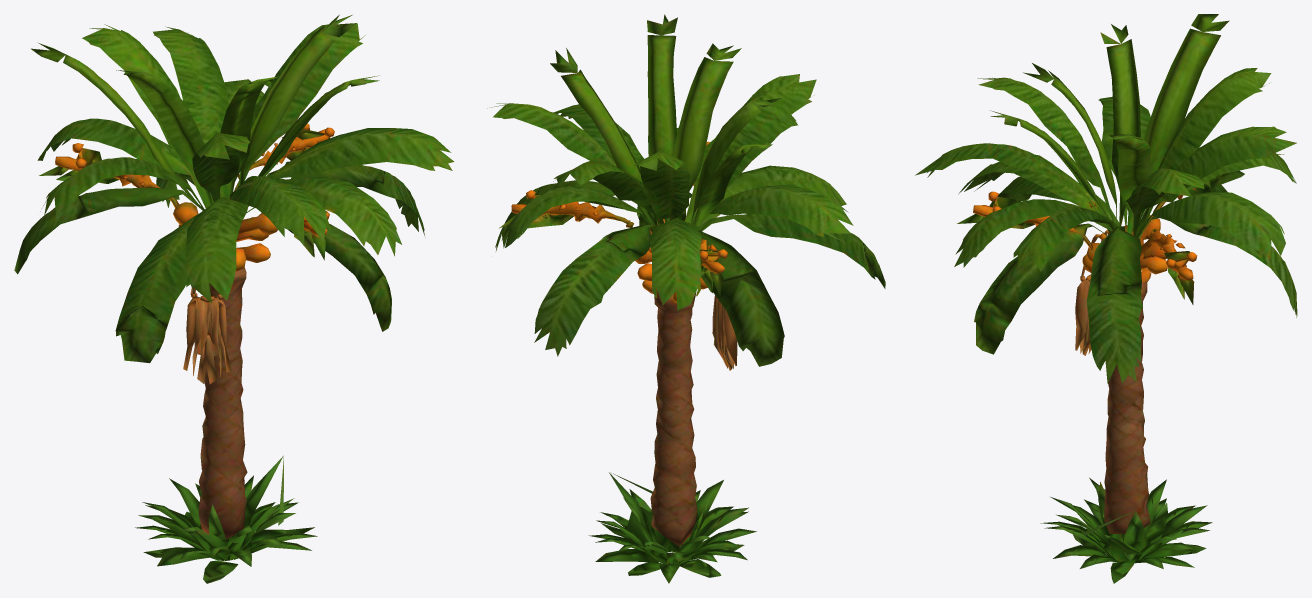
Rendered from palm_tree.glb.
The picture shows the model from 3 angles, left to right: view 1: azimuth 30°, elevation 25°; view 2: azimuth 150°, elevation 25°; view 3: azimuth 270°, elevation 25°; orthographic projection. The views are drawn at different scales.
Parts seen in each view (by area): view 1: tripo_node_c3f64156-23c7-4f6f-9696-3b2da13b3cb2; view 2: tripo_node_c3f64156-23c7-4f6f-9696-3b2da13b3cb2; view 3: tripo_node_c3f64156-23c7-4f6f-9696-3b2da13b3cb2.
Part boxes in pixels (x1,y1,x2,y2): tripo_node_c3f64156-23c7-4f6f-9696-3b2da13b3cb2: (14,14,454,583); tripo_node_c3f64156-23c7-4f6f-9696-3b2da13b3cb2: (487,14,885,583); tripo_node_c3f64156-23c7-4f6f-9696-3b2da13b3cb2: (915,14,1297,583).
Bounding box in the file's own units: 0.7676 × 0.998 × 0.7168.
1 material, 1 textured.
